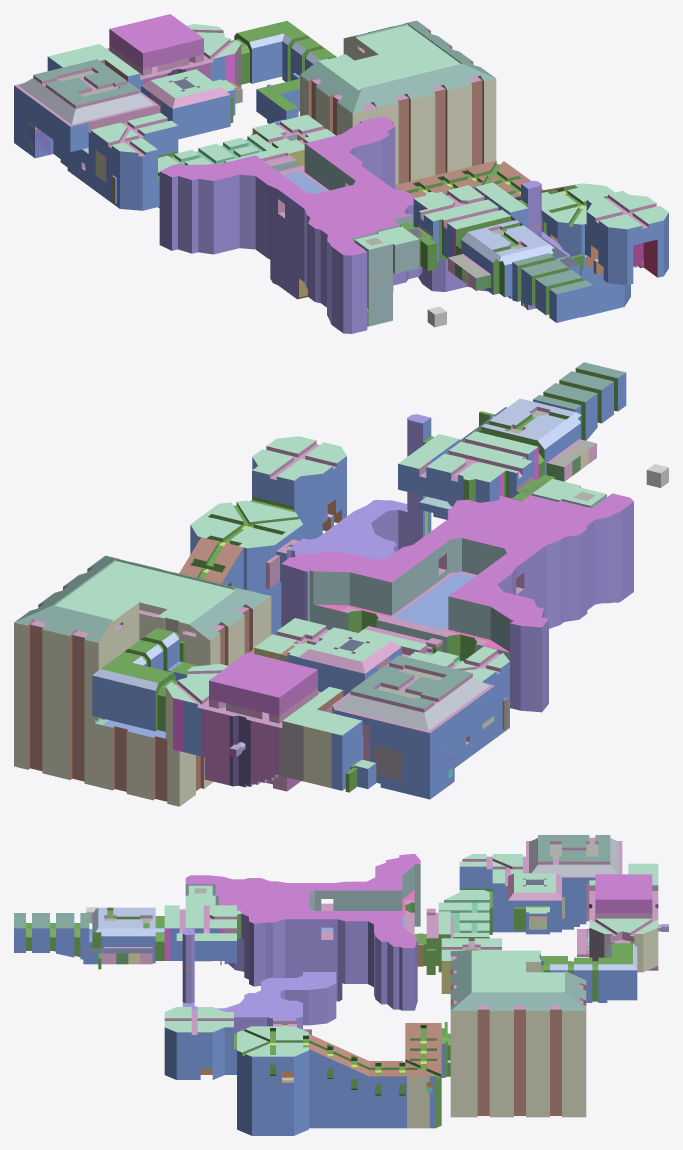
The model's file is e1m1quake.fbx.
3 views of the same model, one above another, from view 1: azimuth 30°, elevation 25°; view 2: azimuth 150°, elevation 25°; view 3: azimuth 270°, elevation 25° (orthographic). The views are drawn at different scales.
Visible parts, largest first — view 1: bsp_model_0; view 2: bsp_model_0; view 3: bsp_model_0.
Part boxes in pixels (x1,y1,x2,y2): bsp_model_0: (14, 14, 668, 333); bsp_model_0: (14, 362, 633, 806); bsp_model_0: (14, 835, 668, 1135).
Size of the model in its own units: 6550 by 2700 by 10875.
